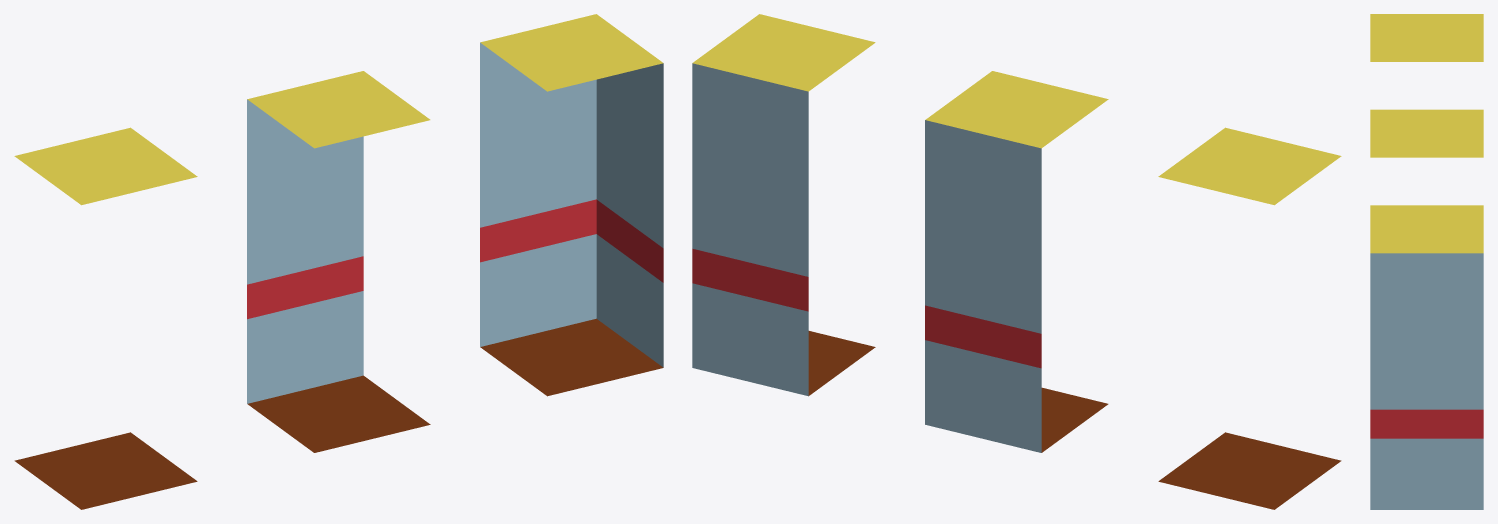
Rendered from tileset.glb.
3 views of the same model, side by side, from view 1: azimuth 30°, elevation 25°; view 2: azimuth 150°, elevation 25°; view 3: azimuth 270°, elevation 25° (orthographic). The views are drawn at different scales.
Parts seen in each view (by area): view 1: Corner, Wall, Middle; view 2: Corner, Wall, Middle; view 3: Corner, Wall, Middle.
Boxes of the visible parts, x1,y1,x2,y2 form: Corner: [480, 14, 663, 396]; Wall: [247, 71, 430, 452]; Middle: [14, 127, 197, 509]; Corner: [692, 14, 875, 396]; Wall: [925, 71, 1108, 452]; Middle: [1158, 127, 1341, 509]; Corner: [1370, 205, 1483, 509]; Wall: [1370, 109, 1483, 157]; Middle: [1370, 14, 1483, 61].
Size of the model in its own units: 5 by 2.5 by 1.
